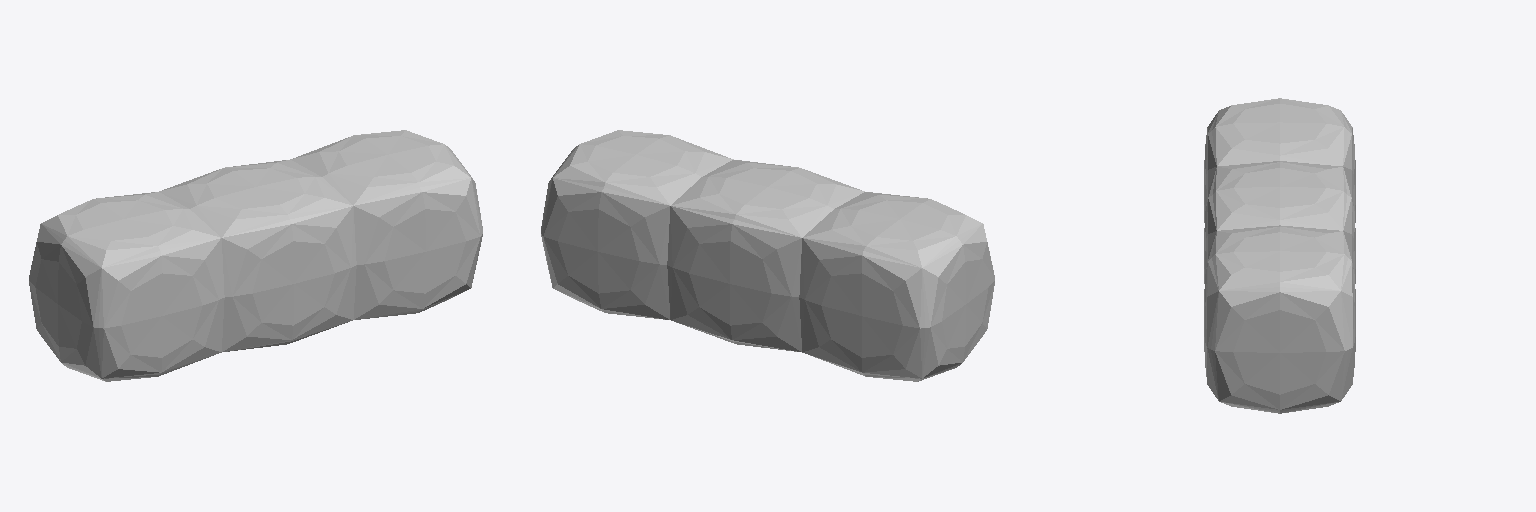
Rendered from 3_block_line.obj.
3 renders of one model, left to right at view 1: azimuth 30°, elevation 25°; view 2: azimuth 150°, elevation 25°; view 3: azimuth 270°, elevation 25°, orthographic.
Visible parts, largest first — view 1: tower_wall_straight; view 2: tower_wall_straight; view 3: tower_wall_straight.
Part boxes in pixels (x1,y1,x2,y2): tower_wall_straight: (29, 130, 482, 381); tower_wall_straight: (541, 130, 994, 381); tower_wall_straight: (1204, 98, 1355, 413).
Size of the model in its own units: 6 by 2 by 2.